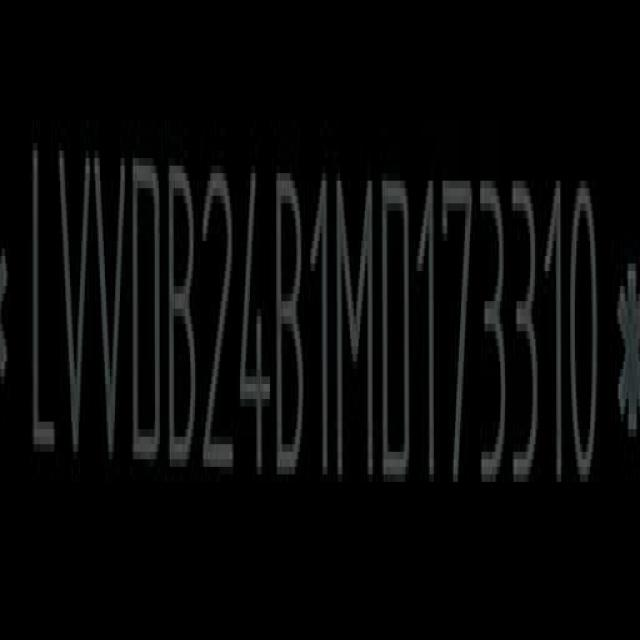0: (571, 186, 600, 483)
1: (310, 167, 332, 493), (548, 181, 568, 488), (418, 172, 436, 496)
2: (204, 167, 236, 476)
3: (478, 174, 508, 487), (512, 176, 540, 486)
4: (239, 163, 271, 480)
7: (443, 171, 474, 494)
B: (167, 156, 198, 468), (277, 168, 306, 480)
D: (384, 169, 418, 482), (133, 151, 164, 466)
L: (27, 128, 56, 474)
M: (338, 172, 376, 477)
V: (94, 145, 130, 469), (56, 141, 90, 467)
